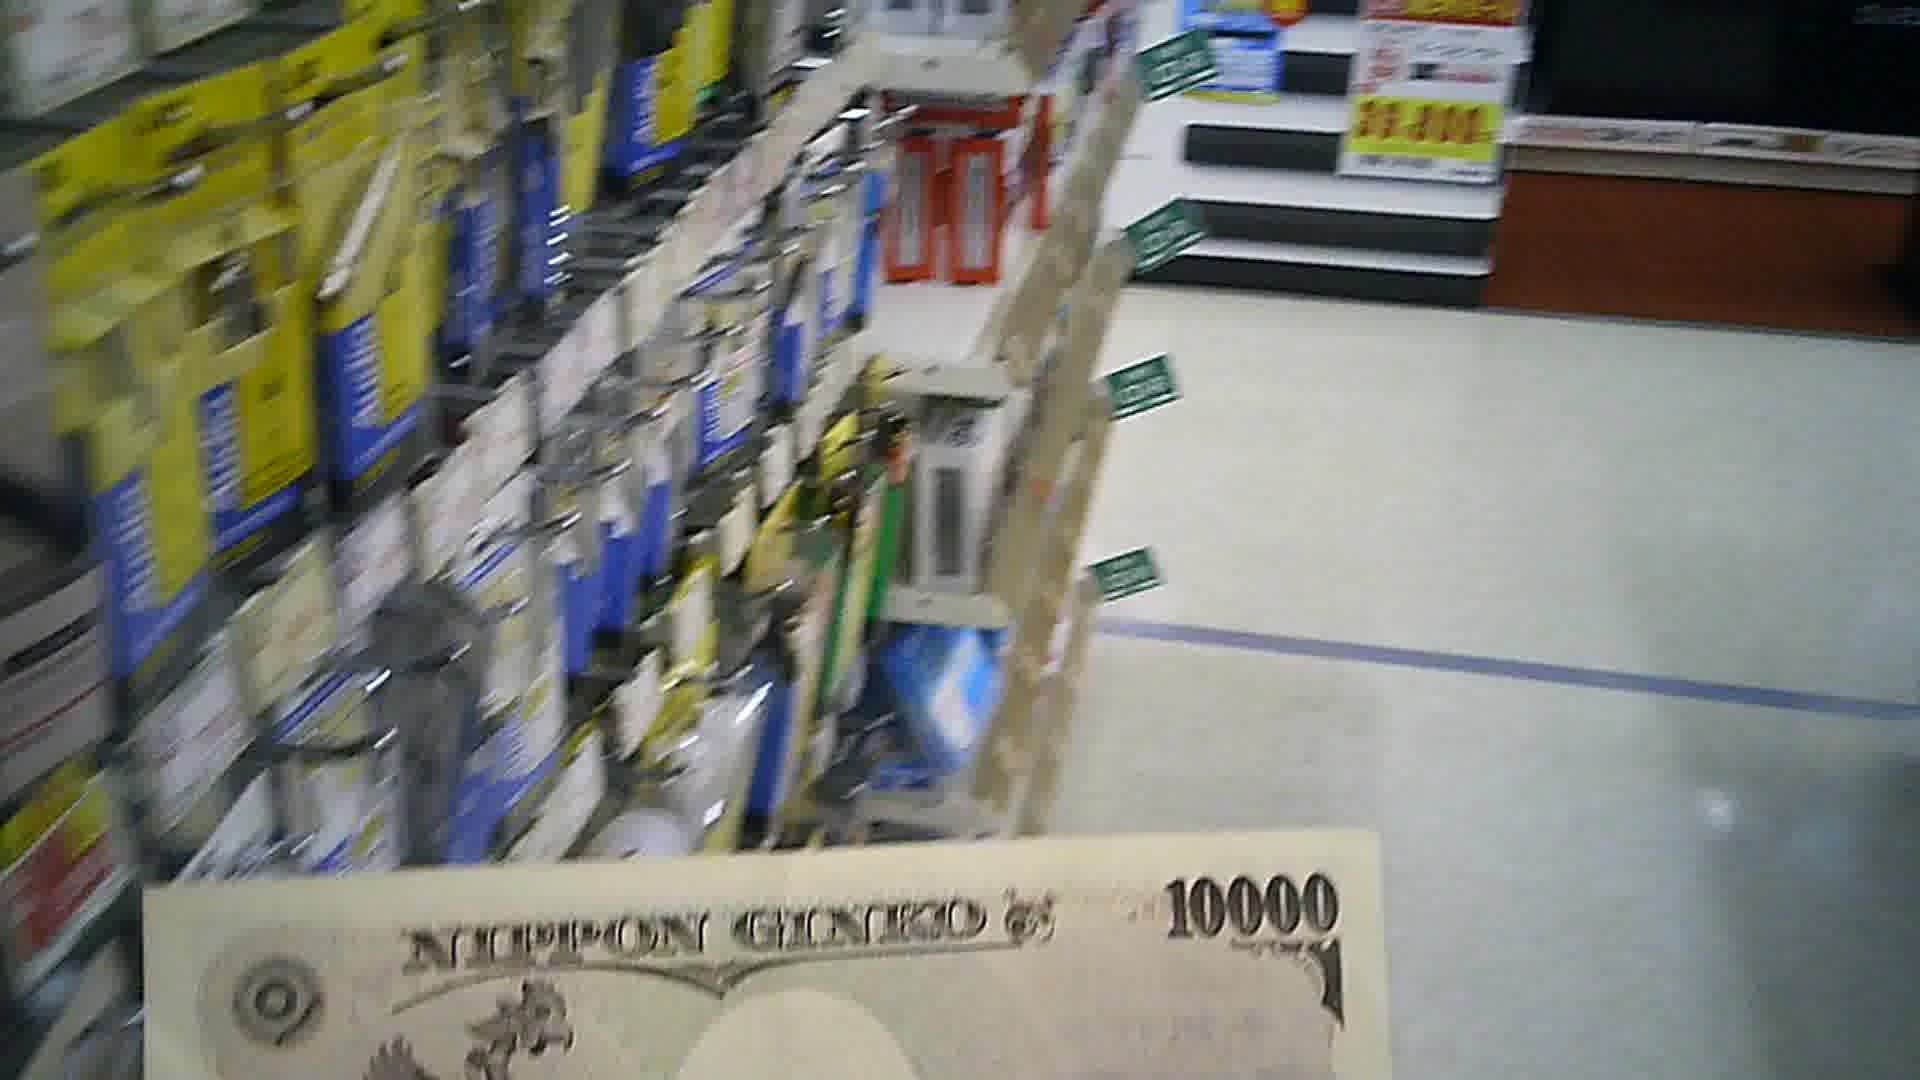10,000 Yen: (117, 841, 1412, 1079)
